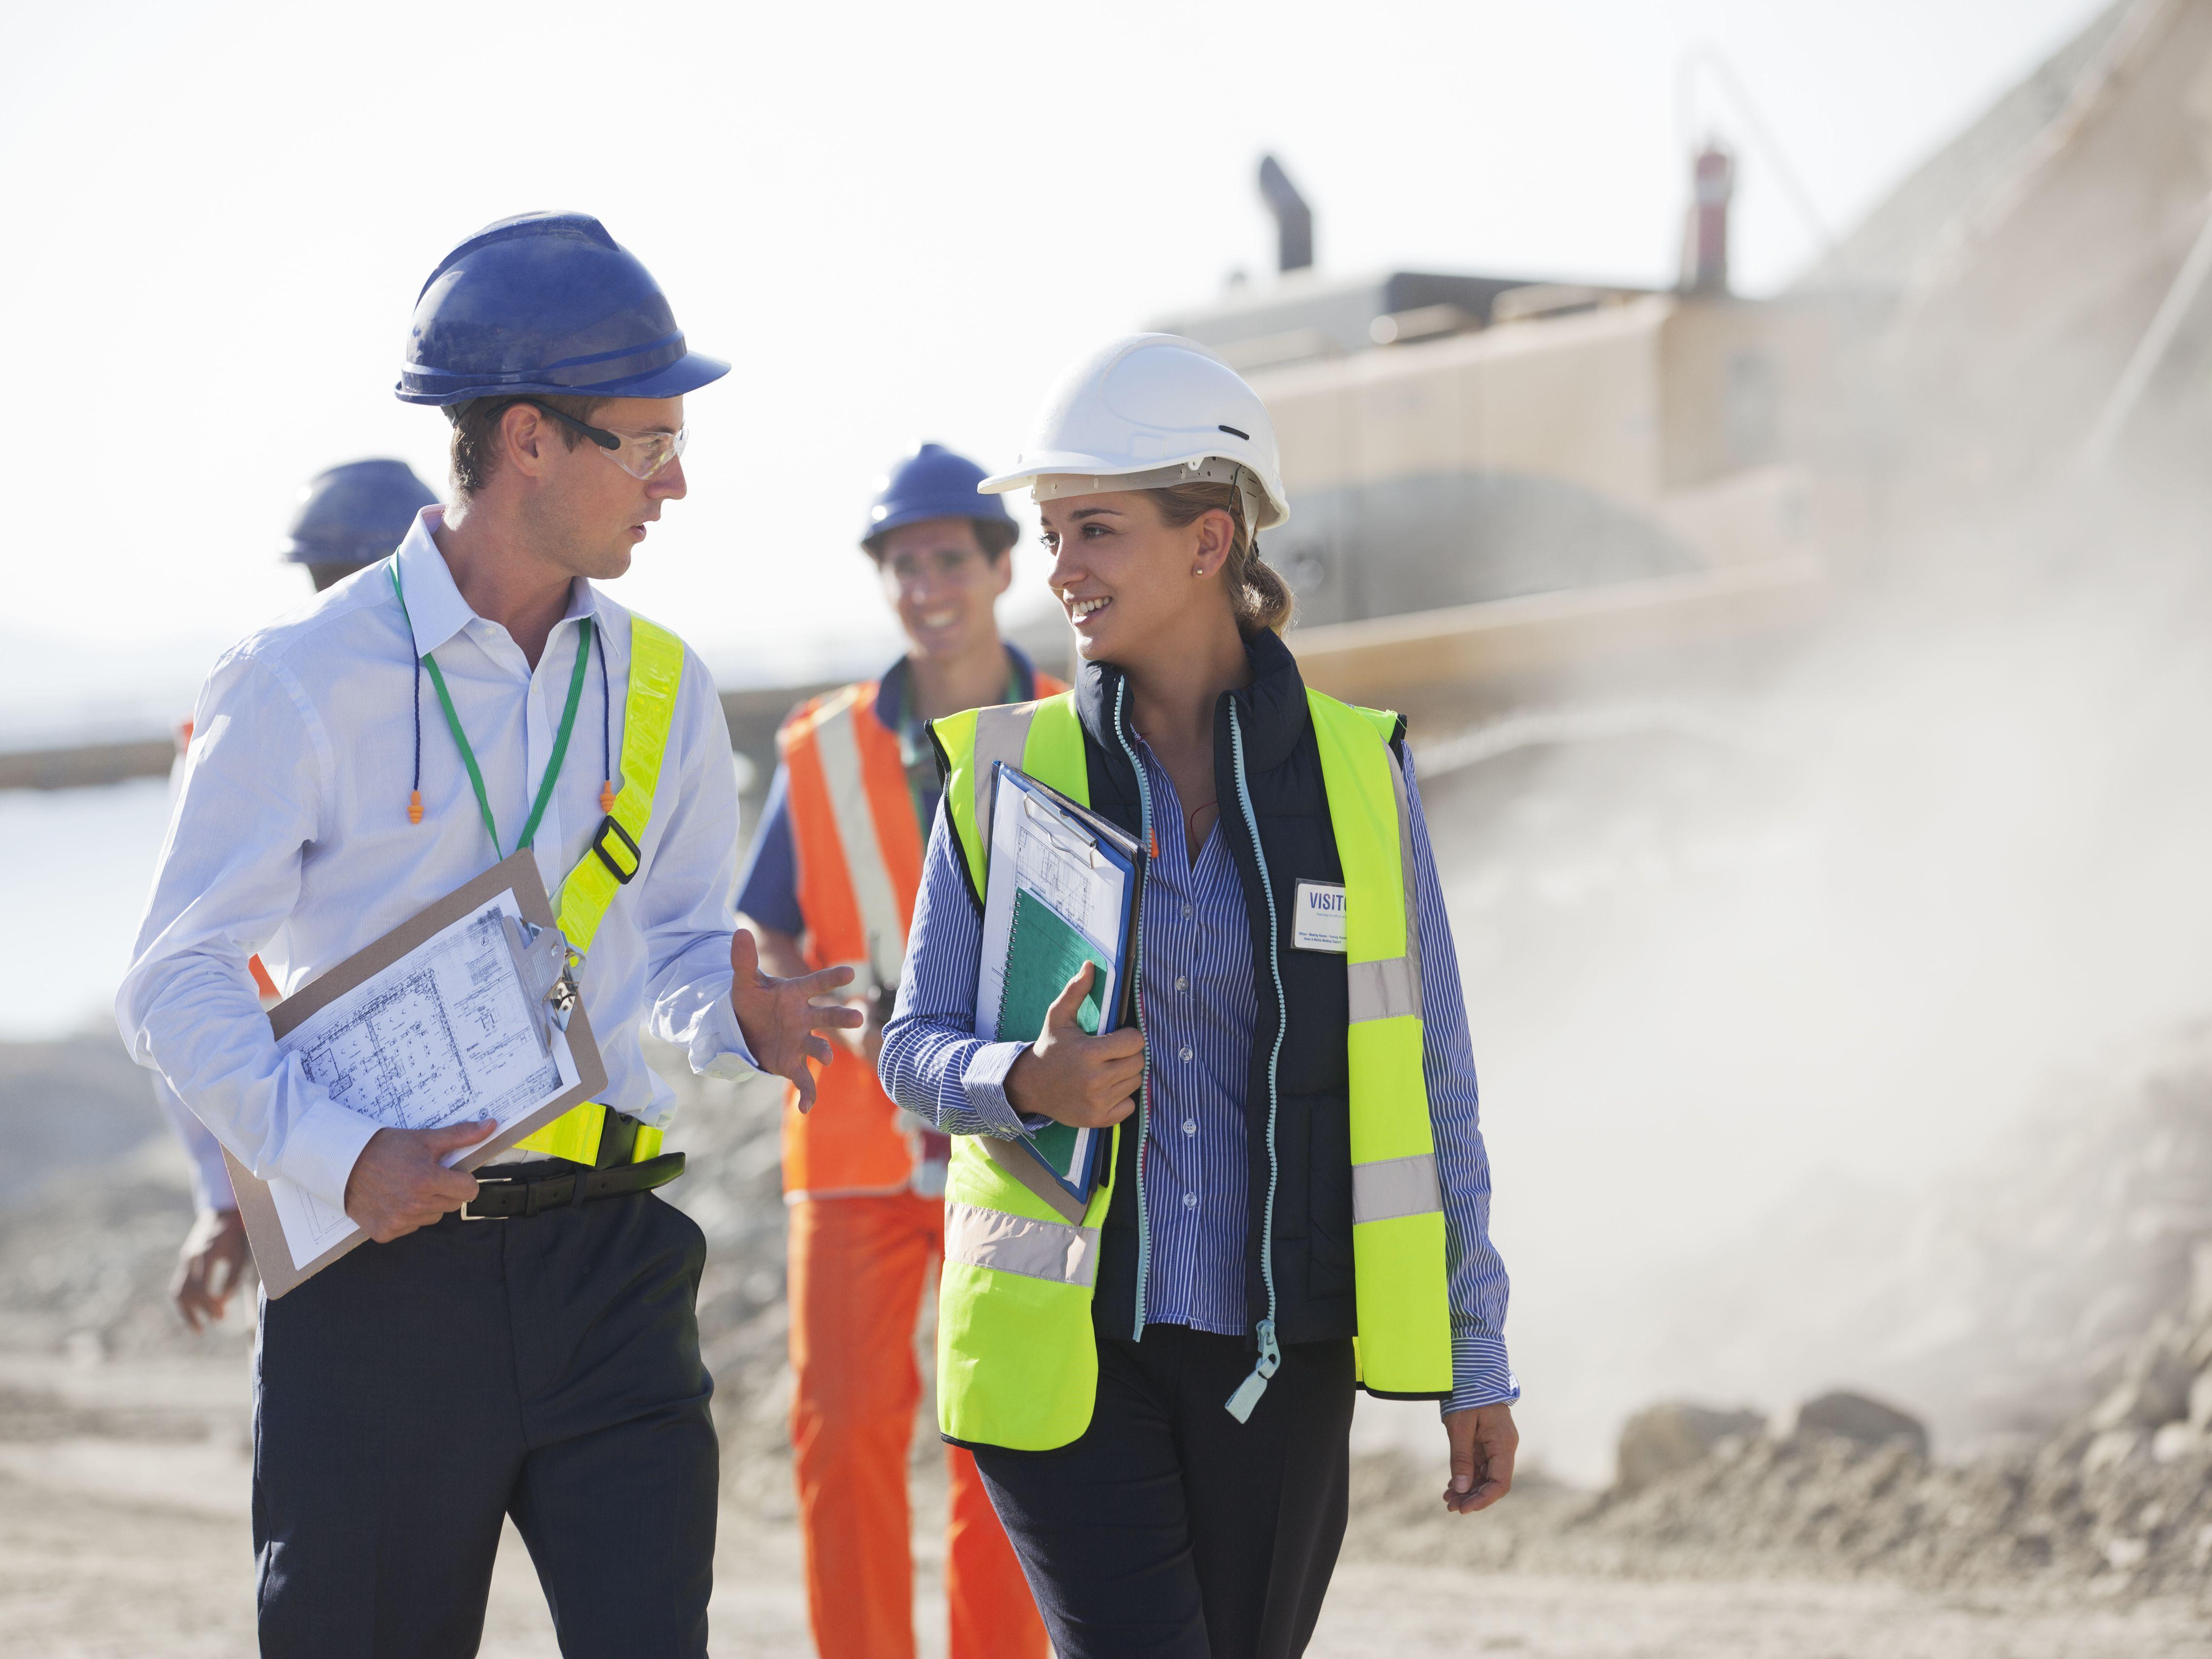helmet: (385, 211, 737, 413), (974, 333, 1292, 528), (284, 457, 444, 579), (857, 443, 1019, 559)
